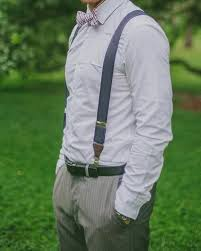F_belt: (59, 154, 142, 183)
F_shirt: (54, 8, 170, 208)
